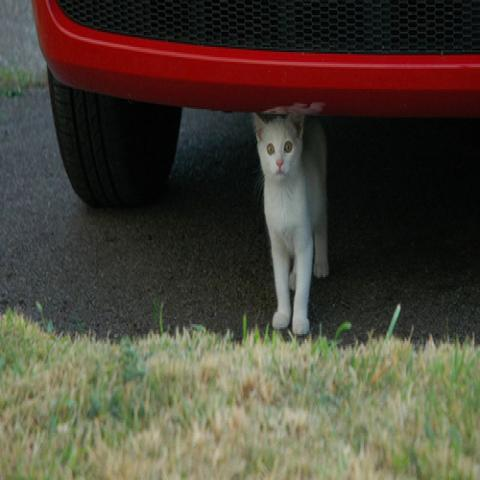car: (31, 0, 479, 210)
